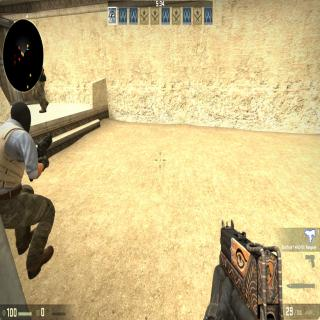T-Body: (0, 100, 49, 267)
T-Head: (8, 100, 34, 138)
